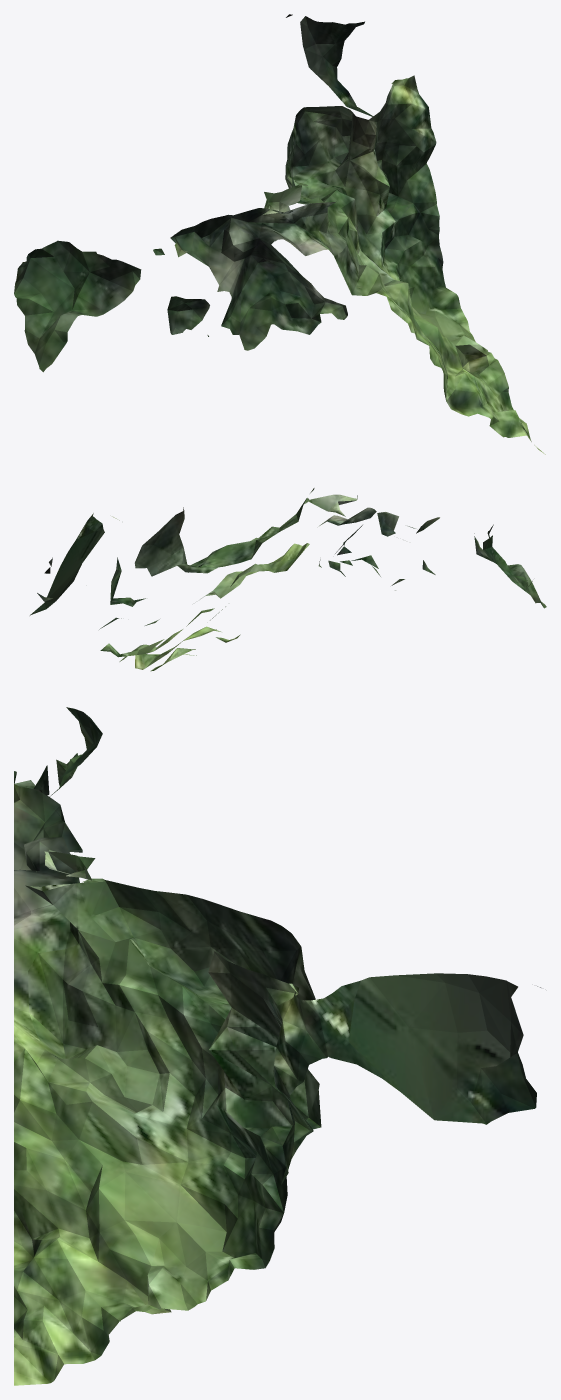
3 renders of one model, top to bottom at view 1: azimuth 30°, elevation 25°; view 2: azimuth 150°, elevation 25°; view 3: azimuth 270°, elevation 25°, orthographic. The views are drawn at different scales.
Size of the model in its own units: 26.11 by 14.92 by 19.21.
2 materials, 2 textured.
